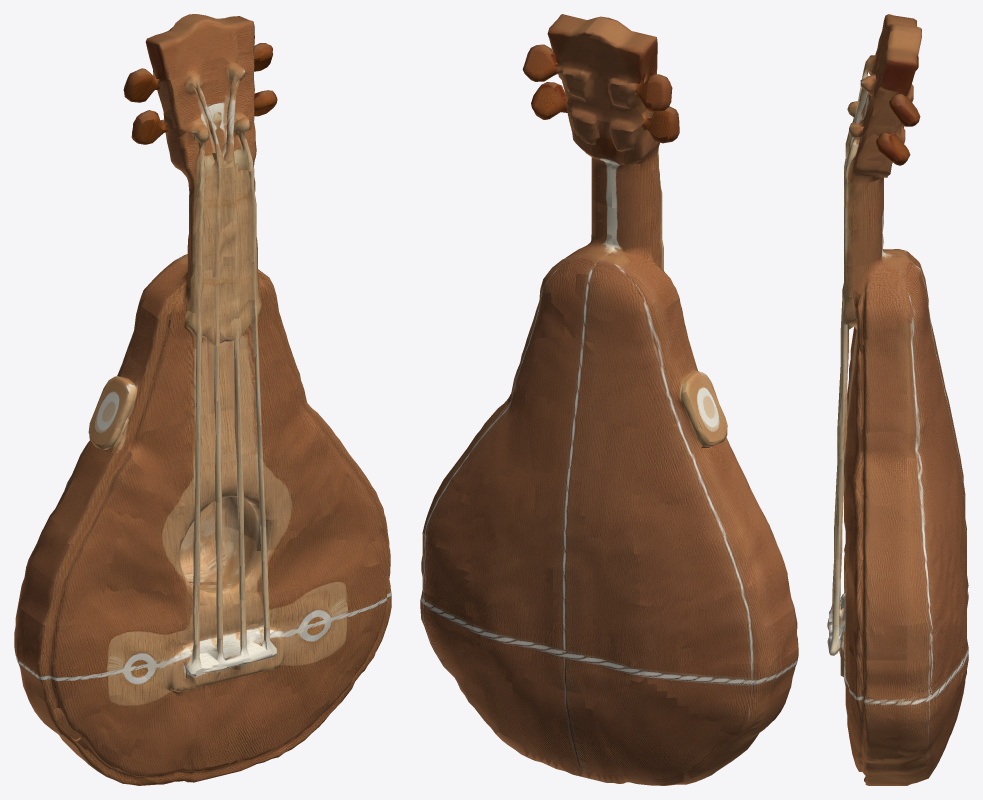
Rendered from s1_quality_dombra.glb.
3 renders of one model, left to right at view 1: azimuth 30°, elevation 25°; view 2: azimuth 150°, elevation 25°; view 3: azimuth 270°, elevation 25°, orthographic. The views are drawn at different scales.
Bounding box in the file's own units: 0.9432 × 1.91 × 0.3327.
1 material, 1 textured.
